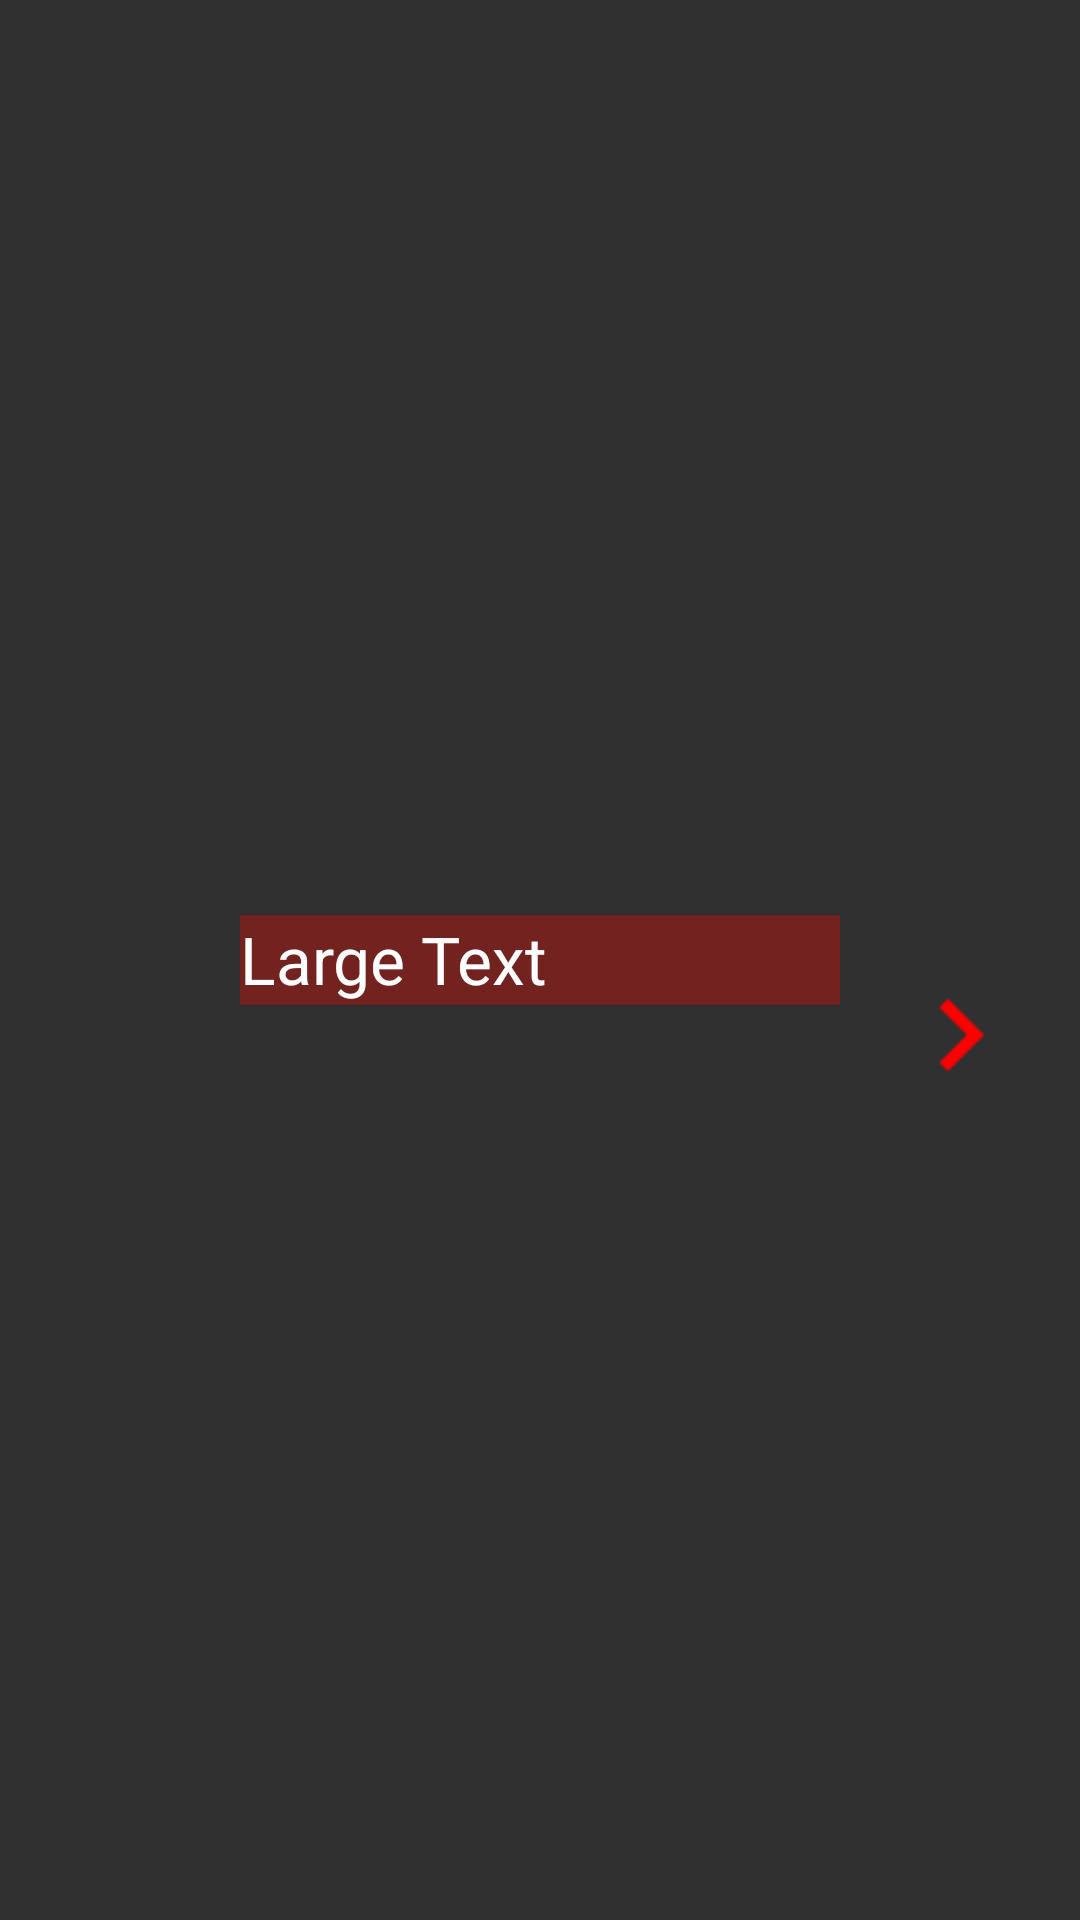

Where icons sit on this 1080 x 1920 app screen, as (x1,y1,x2,y2):
navigate next: (939,998,985,1072)
